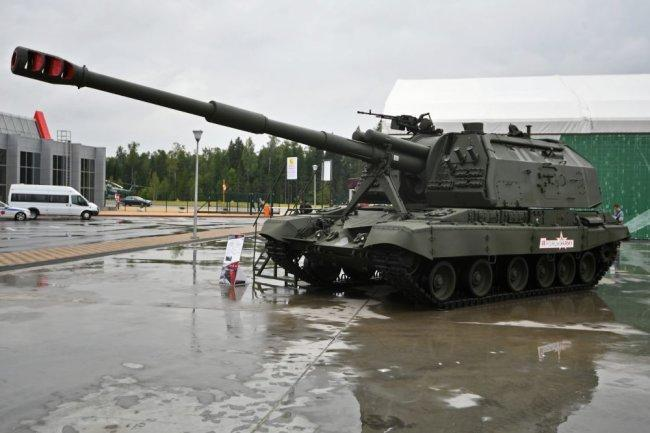car: (120, 190, 156, 210)
sau: (6, 33, 642, 308)
